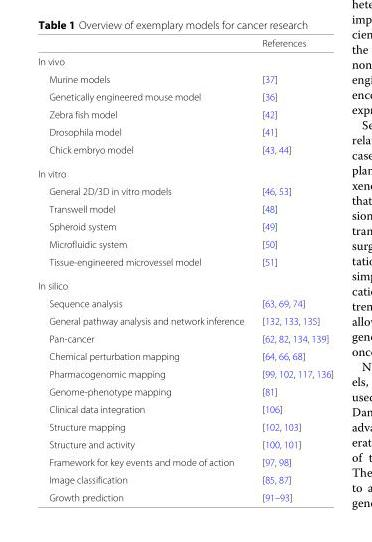table: (37, 37, 333, 502)
table column: (37, 37, 252, 502), (252, 37, 333, 502)
table column header: (37, 37, 333, 51)
table projected row header: (37, 161, 333, 182), (37, 273, 333, 294), (37, 51, 333, 70)
table row: (37, 140, 333, 161), (37, 161, 333, 182), (37, 252, 333, 273), (37, 273, 333, 294), (37, 51, 333, 70), (37, 87, 333, 105), (37, 122, 333, 140), (37, 199, 333, 217), (37, 217, 333, 235), (37, 311, 333, 329), (37, 329, 333, 347), (37, 364, 333, 382), (37, 382, 333, 400), (37, 417, 333, 435), (37, 435, 333, 453), (37, 470, 333, 488), (37, 70, 333, 87), (37, 105, 333, 122), (37, 182, 333, 199), (37, 235, 333, 252), (37, 294, 333, 311), (37, 347, 333, 364), (37, 400, 333, 417), (37, 453, 333, 470), (37, 37, 333, 51), (37, 488, 333, 502)
